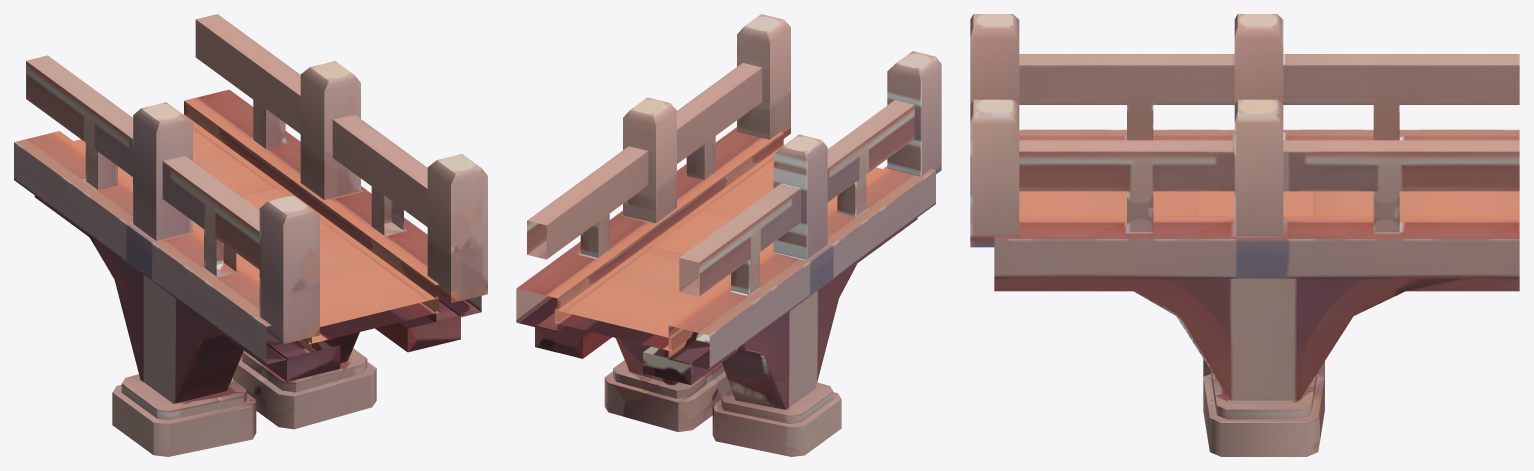
File: Model_bridge_zhidao.fbx
3 views of the same model, side by side, from view 1: azimuth 30°, elevation 25°; view 2: azimuth 150°, elevation 25°; view 3: azimuth 270°, elevation 25° (orthographic). The views are drawn at different scales.
Parts seen in each view (by area): view 1: qiaoliang; view 2: qiaoliang; view 3: qiaoliang.
Boxes of the visible parts, <box> form: qiaoliang: <box>14,14,487,456</box>; qiaoliang: <box>516,14,941,456</box>; qiaoliang: <box>970,14,1519,456</box>.
Size of the model in its own units: 1.02 by 1.42 by 2.09.
Materials: 1 (1 with a texture image).
